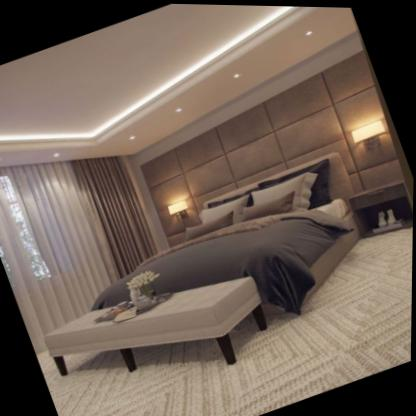Bed: (91, 151, 361, 313)
Curtains: (0, 155, 156, 338)
Gypsum Board: (0, 0, 369, 208)
Wall Panel: (134, 46, 401, 245)
